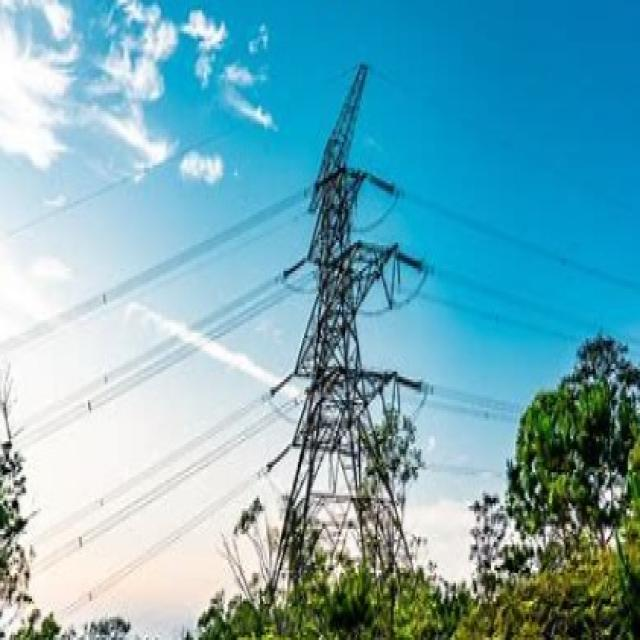utility poles: (476, 304, 602, 520), (334, 355, 422, 541)
